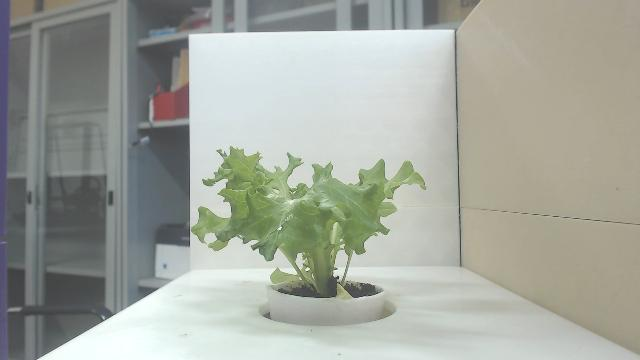Vegetative Stage: (191, 146, 429, 296)
